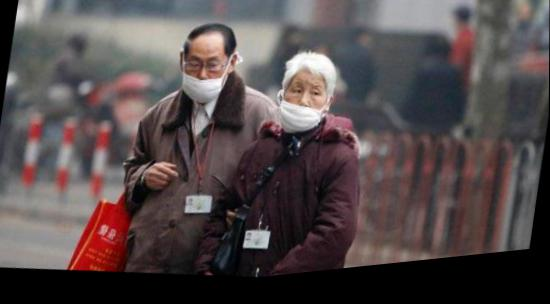WRONG: (279, 79, 331, 143), (181, 45, 230, 110)
